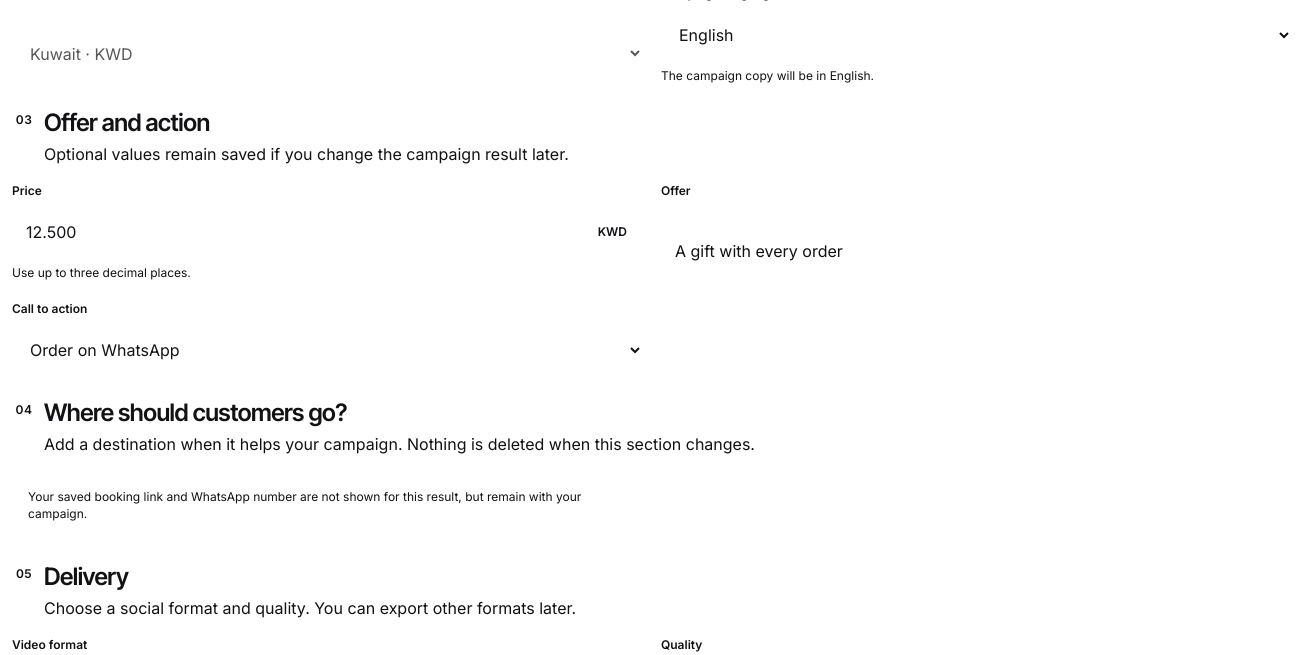
it: CampaignSetupStep › completes the no presenter Kuwait setup and asks for a fresh price after a relevant edit
This screenshot has width=1304, height=655.
Later steps or results of the test are not shown.
(page scrolled)
Expected: the dropdown labelled "Market" shows "Kuwait · KWD", [12,24,643,84]
Expected: the field labelled "Price" holds "12.500", [12,208,582,256]
Select "Shop now · recommended" in the dropdown labelled "Call to action" at (328, 350), box [12,326,643,374]
(page scrolled)
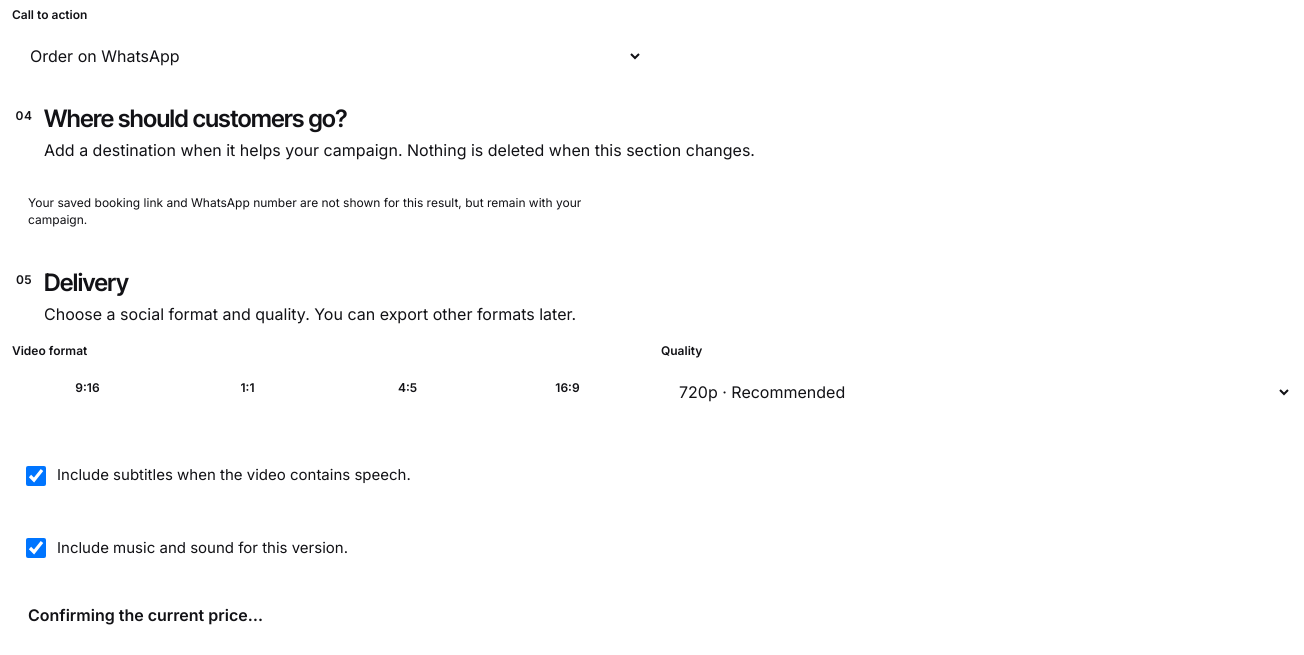
Expected: the text "Confirming the current price…" is shown, [28,605,263,625]
